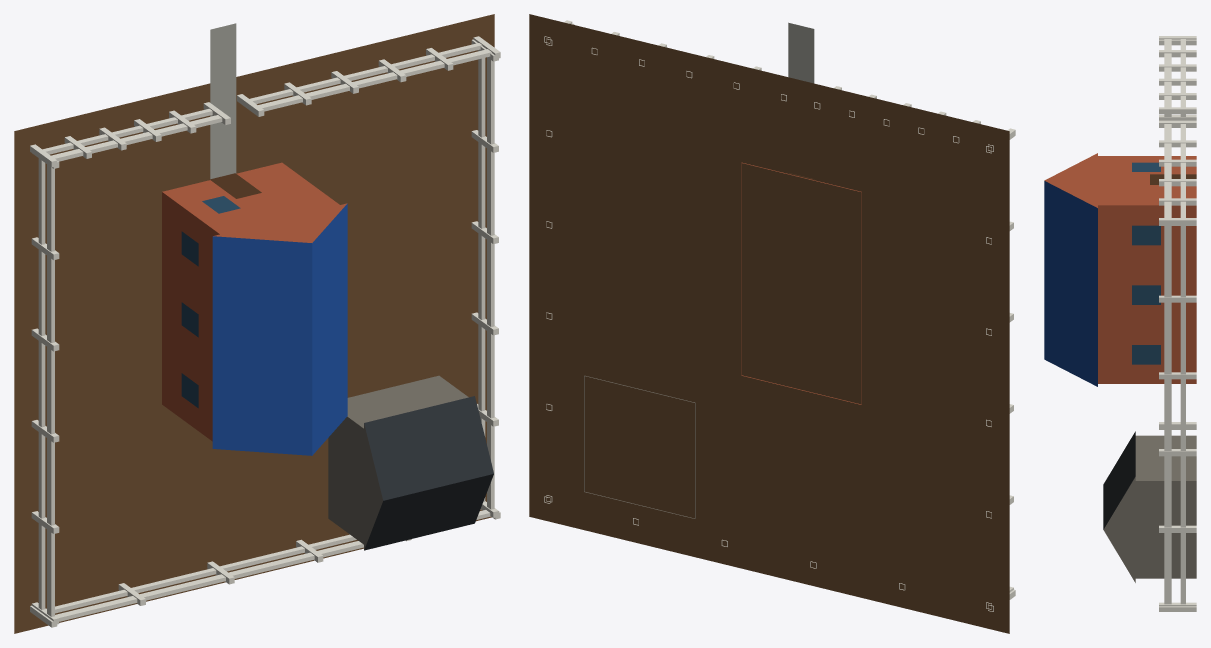
3 renders of one model, left to right at view 1: azimuth 30°, elevation 25°; view 2: azimuth 150°, elevation 25°; view 3: azimuth 270°, elevation 25°, orthographic. The views are drawn at different scales.
Visible parts, largest first — view 1: object_hq_small; view 2: object_hq_small; view 3: object_hq_small.
Boxes of the visible parts, x1,y1,x2,y2 form: object_hq_small: (14,14,500,633); object_hq_small: (529,14,1015,633); object_hq_small: (1044,36,1196,611).
Size of the model in its own units: 26 by 28.8 by 8.5.
